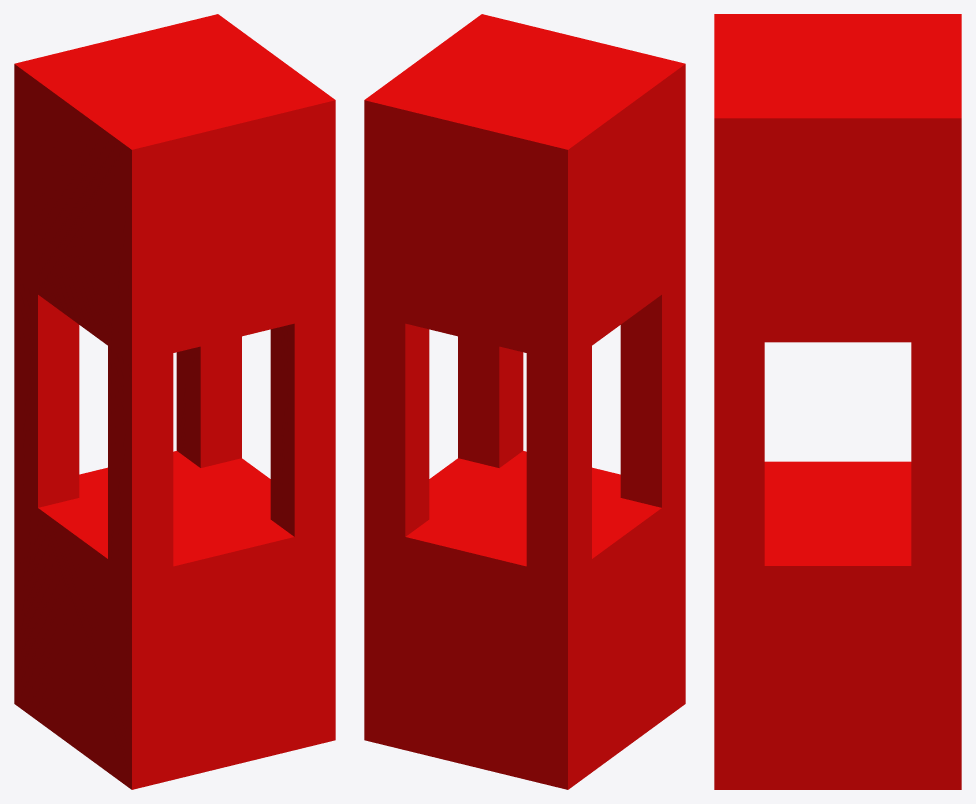
The model's file is kingRed (4).glb.
3 renders of one model, left to right at view 1: azimuth 30°, elevation 25°; view 2: azimuth 150°, elevation 25°; view 3: azimuth 270°, elevation 25°, orthographic. The views are drawn at different scales.
Parts seen in each view (by area): view 1: Cube.010; view 2: Cube.010; view 3: Cube.010.
Part boxes in pixels (<box>): Cube.010: <box>14,14,335,789</box>; Cube.010: <box>364,14,685,789</box>; Cube.010: <box>714,14,961,789</box>.
Bounding box in the file's own units: 2.5 × 7.5 × 2.5.
